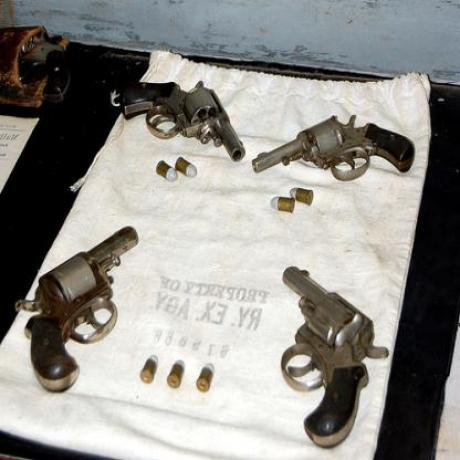weapon: (19, 218, 145, 396), (276, 262, 382, 451), (252, 109, 414, 193), (112, 72, 242, 162)
